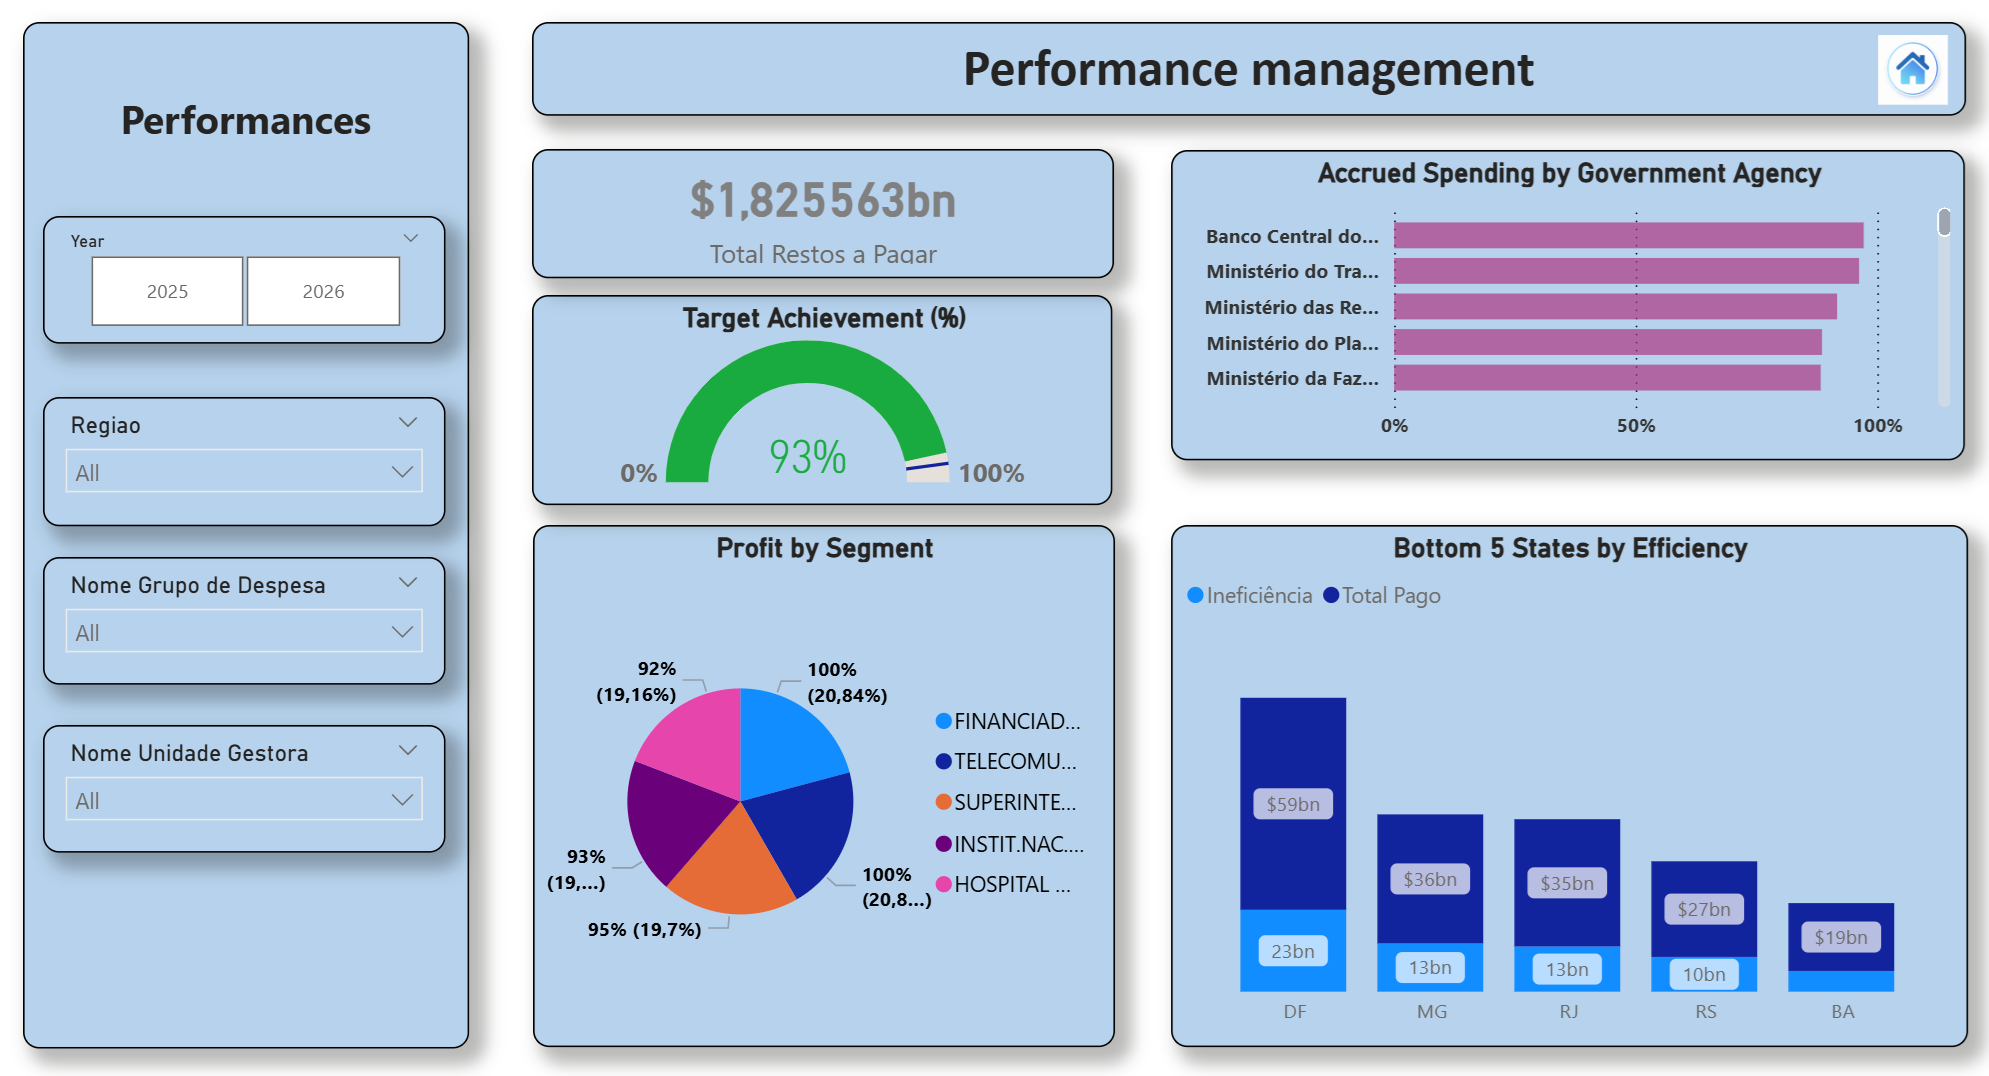

What the dashboard file says about the page in this screenshot:
{"tool":"powerbi","page":{"name":"Perf Control","canvas":[1280,720],"ordinal":3},"visuals":[{"type":"textbox","box":[360.7,29.9,886.8,58.3],"z":0},{"type":"lineStackedColumnComboChart","title":"Bottom 5 States by Efficiency","fields":{"Category":["Fato_Despesas.UF"],"Y":["Messure.Ineficiência","Messure.Total Pago"]},"box":[755.6,340.5,492.5,323],"z":1},{"type":"card","fields":{"Values":["Messure.Total Restos a Pagar"]},"box":[360.5,108.5,360.5,80.4],"z":2},{"type":"pieChart","title":"Profit by Segment","fields":{"Category":["Dim_Gestao.Nome Gestão"],"Y":["Messure.% Execução Real"]},"box":[361,340.5,359.5,323],"z":3},{"type":"clusteredBarChart","title":"Accrued Spending by Government Agency","fields":{"Category":["Dim_Orgao.Nome Órgão Superior"],"Y":["Messure.% Liquidado"]},"box":[756,108.7,491.4,192.2],"z":4},{"type":"textbox","box":[45.7,29.9,275.6,634.8],"z":5},{"type":"slicer","fields":{"Values":["Dim_Calendario.AnoMes.Variation.Date Hierarchy.Year"]},"box":[58.3,149.6,248.9,78.8],"z":6},{"type":"slicer","fields":{"Values":["Dim_UF.Regiao"]},"box":[58.3,261.5,248.9,80.3],"z":7},{"type":"slicer","fields":{"Values":["Dim_Despesa.Nome Grupo de Despesa"]},"box":[58.3,360.7,248.9,78.8],"z":8},{"type":"slicer","fields":{"Values":["Dim_UnidadeGestora.Nome Unidade Gestora"]},"box":[58.3,464.6,248.9,78.8],"z":9},{"type":"gauge","title":"Target Achievement (%)","fields":{"TargetValue":["Messure.% Liquidado"],"Y":["Messure.% Execução Real"]},"box":[360.5,198.6,359.5,129.8],"z":10},{"type":"actionButton","box":[1193.4,37.6,42.9,42.9],"z":11}]}

Visuals, with their boxes on the page's 1280x720 design canvas (x1, y1, x2, y2). These are canvas units, not pixel positions in the 1989x1076 screenshot, which may show the page scaled, cropped or inside an application window:
textbox: left=361, top=30, right=1248, bottom=88
"Bottom 5 States by Efficiency" lineStackedColumnComboChart: left=756, top=340, right=1248, bottom=664
card - Messure.Total Restos a Pagar: left=360, top=108, right=721, bottom=189
"Profit by Segment" pieChart: left=361, top=340, right=720, bottom=664
"Accrued Spending by Government Agency" clusteredBarChart: left=756, top=109, right=1247, bottom=301
textbox: left=46, top=30, right=321, bottom=665
slicer - Dim_Calendario.AnoMes.Variation.Date Hierarchy.Year: left=58, top=150, right=307, bottom=228
slicer - Dim_UF.Regiao: left=58, top=262, right=307, bottom=342
slicer - Dim_Despesa.Nome Grupo de Despesa: left=58, top=361, right=307, bottom=440
slicer - Dim_UnidadeGestora.Nome Unidade Gestora: left=58, top=465, right=307, bottom=543
"Target Achievement (%)" gauge: left=360, top=199, right=720, bottom=328
actionButton: left=1193, top=38, right=1236, bottom=80
